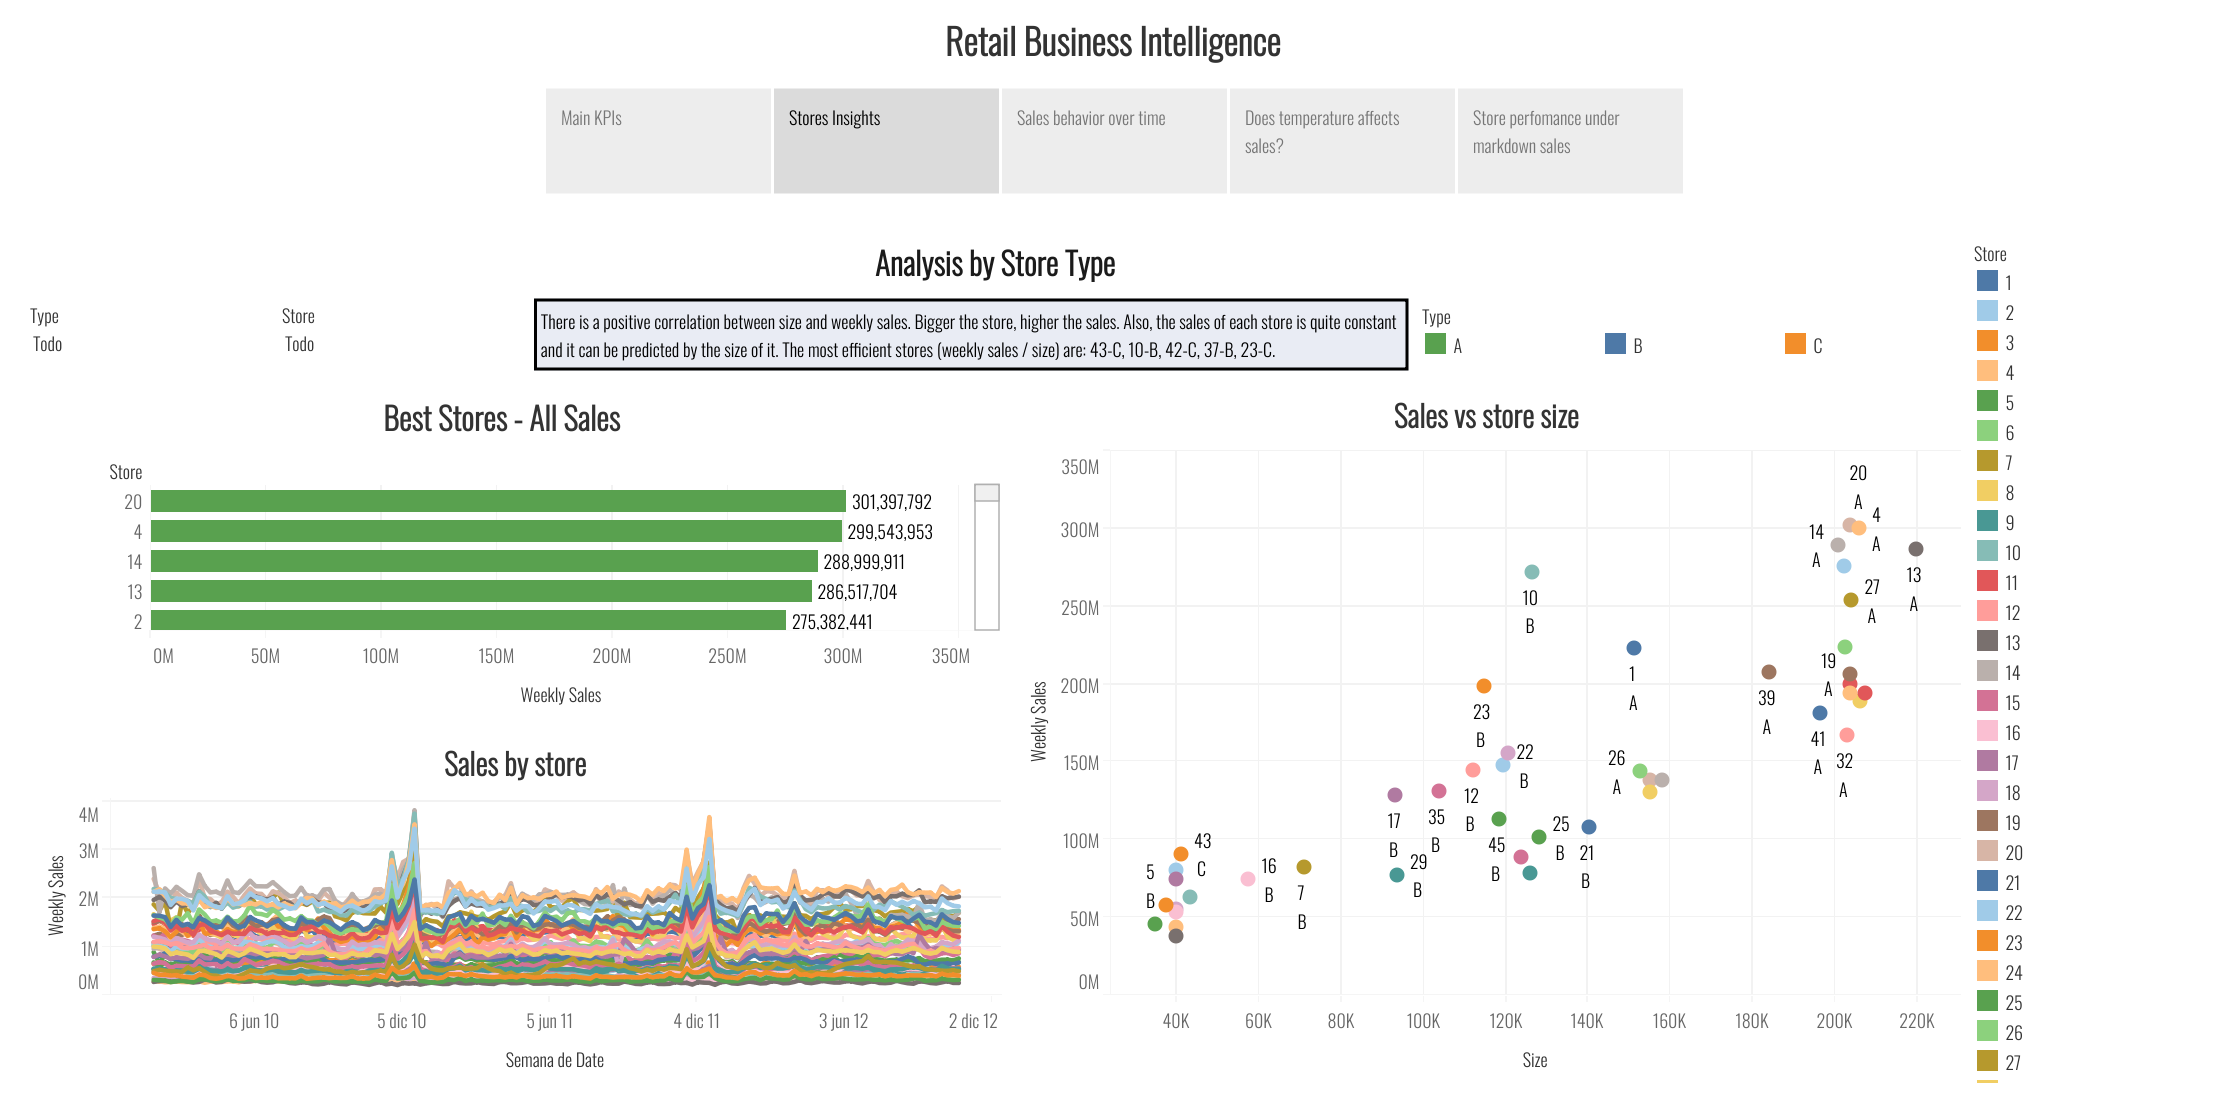

The dashboard page shown, as its layout file describes it:
{"tool":"tableau","page":{"name":"Dashboard 2","canvas":[1000,1000],"units":"permille","ordinal":1},"visuals":[{"type":"text","box":[5.4,10.8,882,72.3]},{"type":"legend","title":"Sales by store","param":"[federated.09c82i20zi96wa15g1bcy1swq6py].[none:store:ok]","box":[887.4,10.8,107.2,978.4]},{"type":"filter","title":"Sales/size by store","param":"[federated.09c82i20zi96wa15g1bcy1swq6py].[none:type:nk]","box":[5.4,83.1,113.2,75.5]},{"type":"filter","title":"Sales/size by store","param":"[federated.09c82i20zi96wa15g1bcy1swq6py].[attr:store:ok]","box":[118.6,83.1,113.2,75.5]},{"type":"text","box":[231.8,83.1,407.6,75.5]},{"type":"legend","title":"Best sellers","param":"[federated.09c82i20zi96wa15g1bcy1swq6py].[none:type:nk]","box":[639.4,83.1,248,75.5]},{"type":"worksheet","title":"Best sellers","mark":"Bar","rows":["store"],"cols":["weekly_sales"],"box":[5.4,158.6,446,312.7]},{"type":"worksheet","title":"Sales/size by store","mark":"Circle","rows":["weekly_sales"],"cols":["size"],"box":[451.4,158.6,435.9,830.6]},{"type":"worksheet","title":"Sales by store","mark":"Automatic","rows":["weekly_sales"],"cols":["date"],"box":[5.4,471.2,446,518]}]}

Visuals, with their boxes on the dashboard's canvas, which has no fixed pixel size, in thousandths of its width and height (x1, y1, x2, y2). These are canvas units, not pixel positions in the 2225x1112 screenshot, which may show the page scaled, cropped or inside an application window:
text: bbox=(5, 11, 887, 83)
"Sales by store" legend: bbox=(887, 11, 995, 989)
"Sales/size by store" filter: bbox=(5, 83, 119, 159)
"Sales/size by store" filter: bbox=(119, 83, 232, 159)
text: bbox=(232, 83, 639, 159)
"Best sellers" legend: bbox=(639, 83, 887, 159)
"Best sellers" worksheet (Bar marks): bbox=(5, 159, 451, 471)
"Sales/size by store" worksheet (Circle marks): bbox=(451, 159, 887, 989)
"Sales by store" worksheet: bbox=(5, 471, 451, 989)
